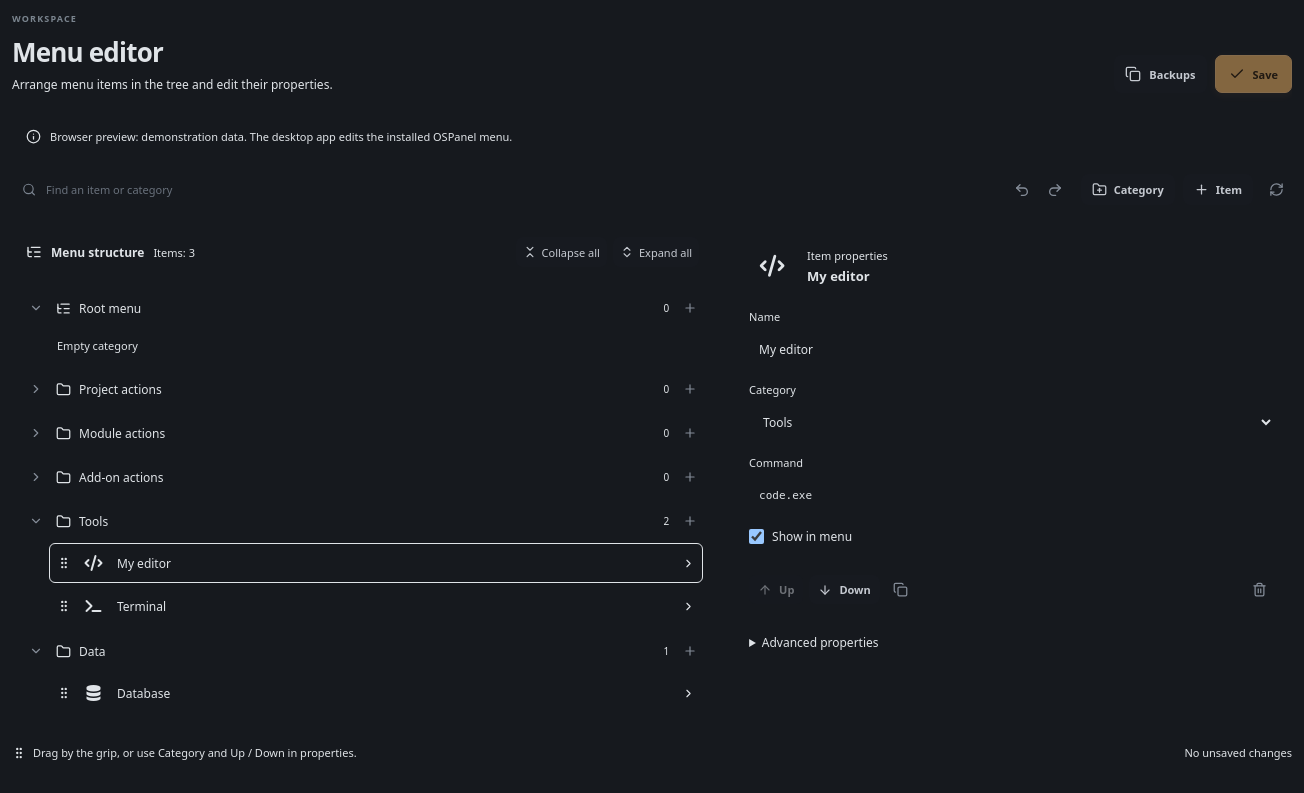
Test: MenuEditor › keeps edits local until save and preserves native conditions and unknown properties
The image size is (1304, 793).
Step 1. Replace the text in the field labelled "Name" with "Renamed editor" → (1012,349), box [749, 331, 1274, 367]
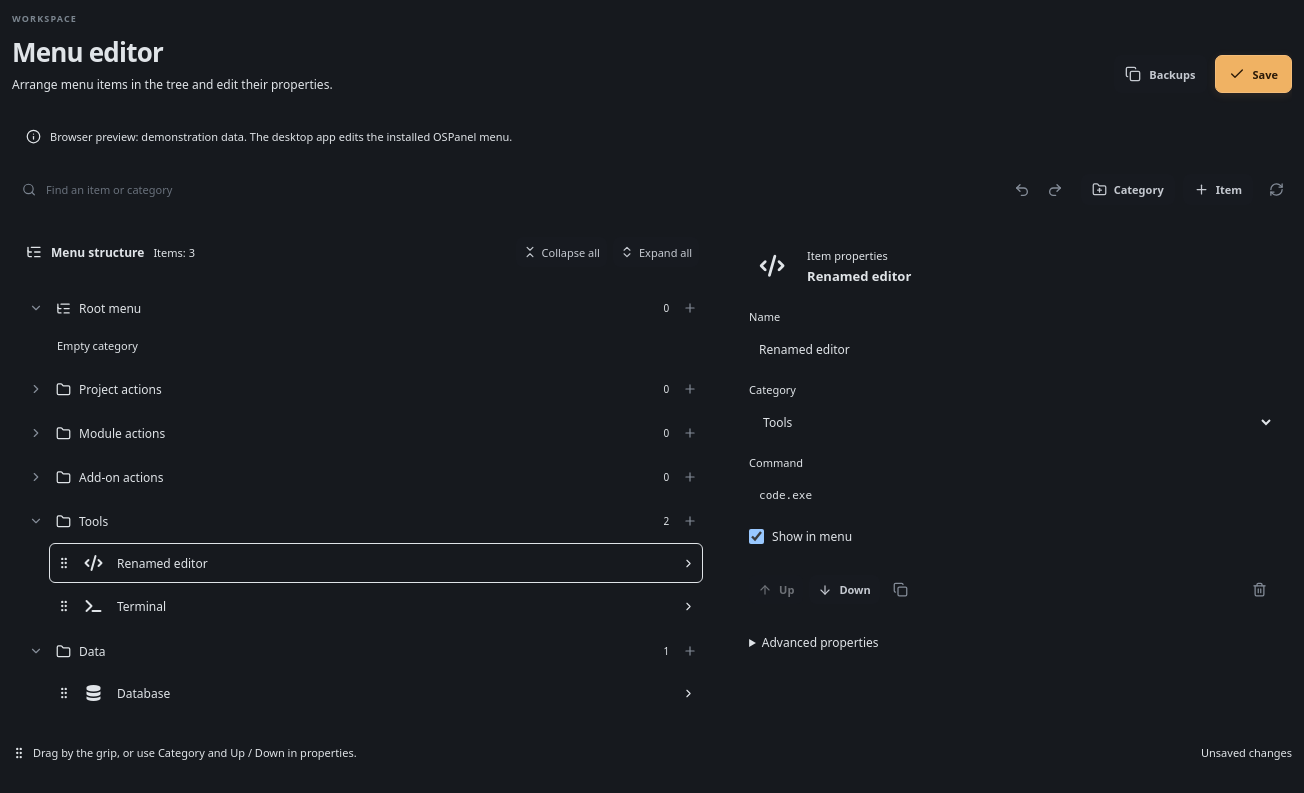
Step 2. Select "Data" in the dropdown labelled "Category" → (1012,422), box [749, 404, 1274, 440]
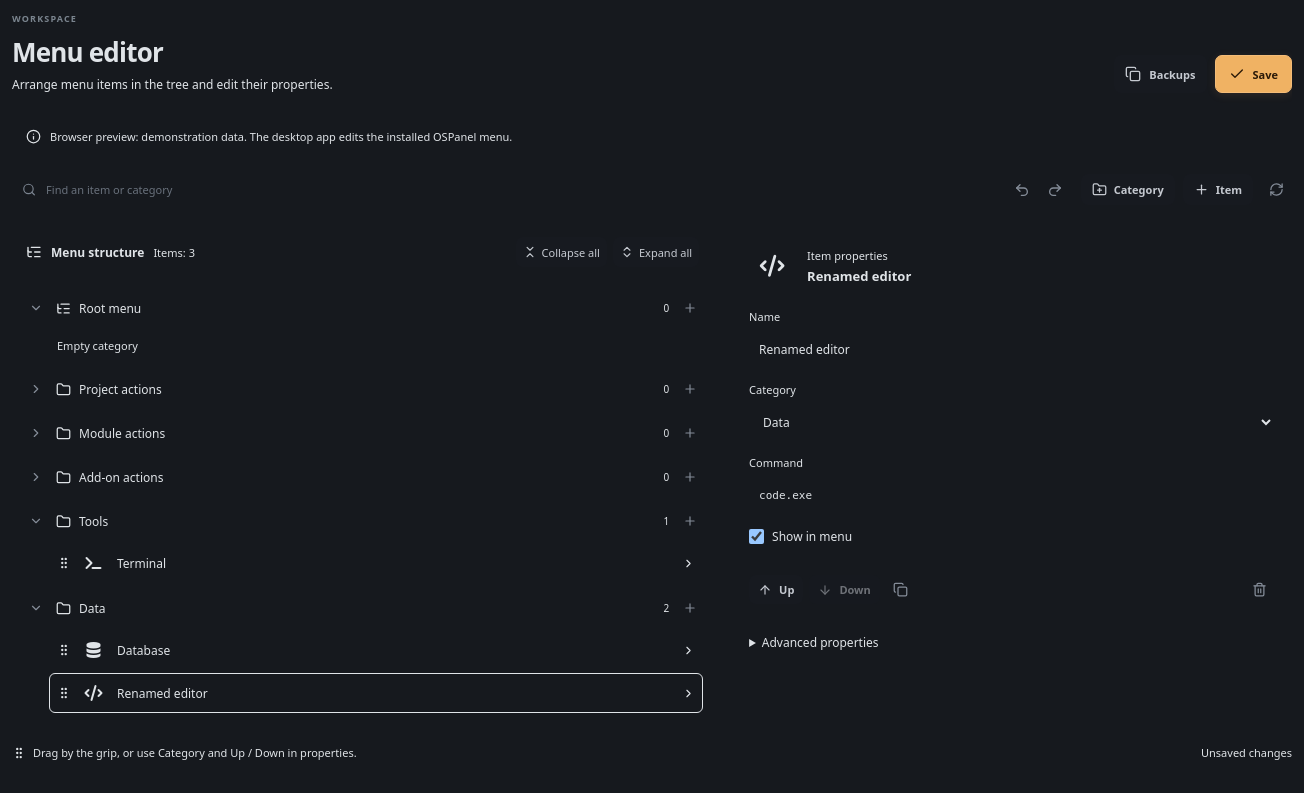
Step 3. Click the button "Save" → (1253,74), box [1214, 55, 1292, 93]
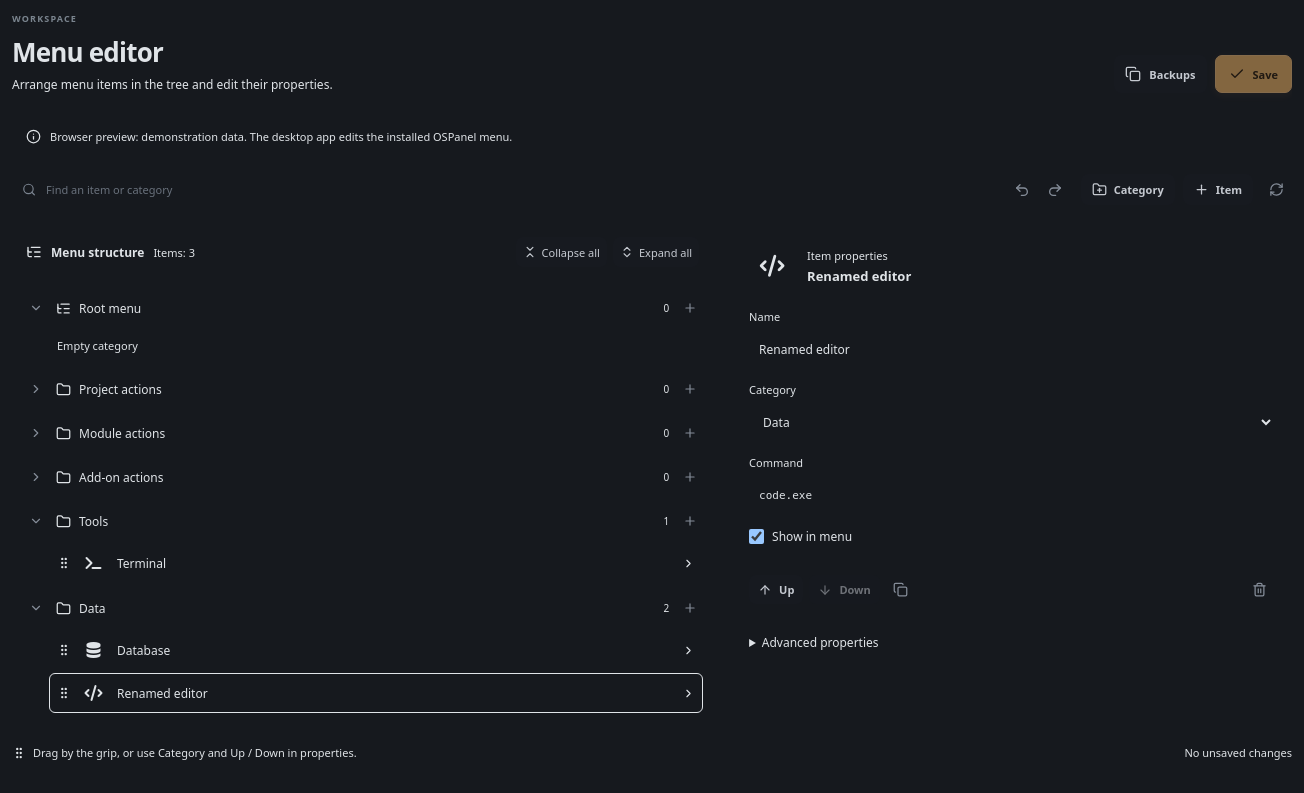
Now the button "Save" is disabled, box [1214, 55, 1292, 93]
